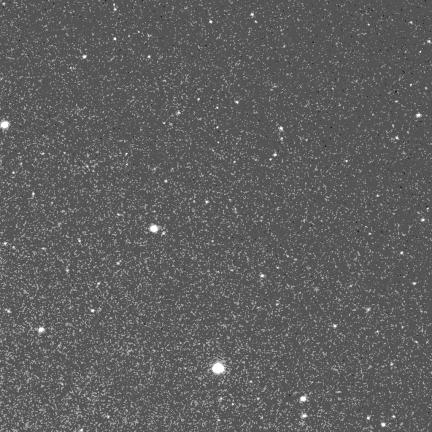blob: (212, 362, 224, 374), (0, 121, 10, 129), (150, 225, 158, 232), (300, 396, 306, 402), (38, 327, 44, 333), (416, 113, 421, 118), (381, 422, 386, 427), (302, 414, 307, 418), (396, 136, 400, 141), (83, 55, 87, 59), (333, 324, 337, 328), (260, 274, 264, 278), (279, 127, 283, 131), (210, 20, 213, 24), (114, 37, 117, 41), (412, 282, 416, 285), (367, 416, 370, 420), (235, 101, 239, 104), (91, 309, 95, 312), (421, 218, 425, 221)
